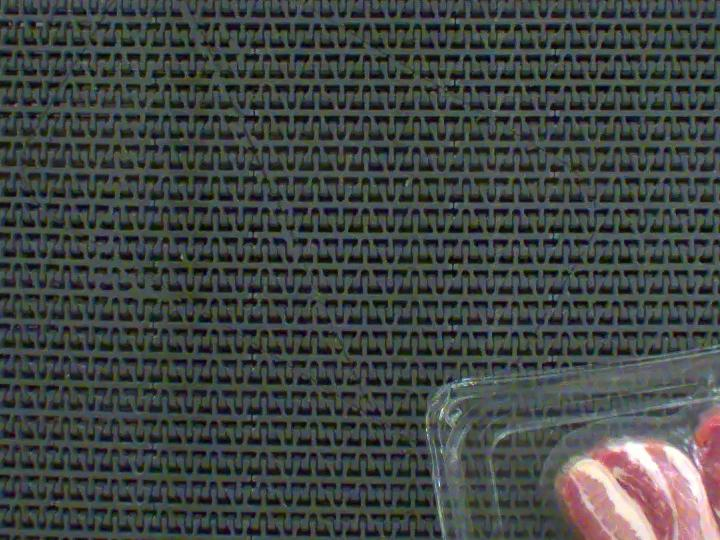unsealed: (535, 321, 720, 540)
